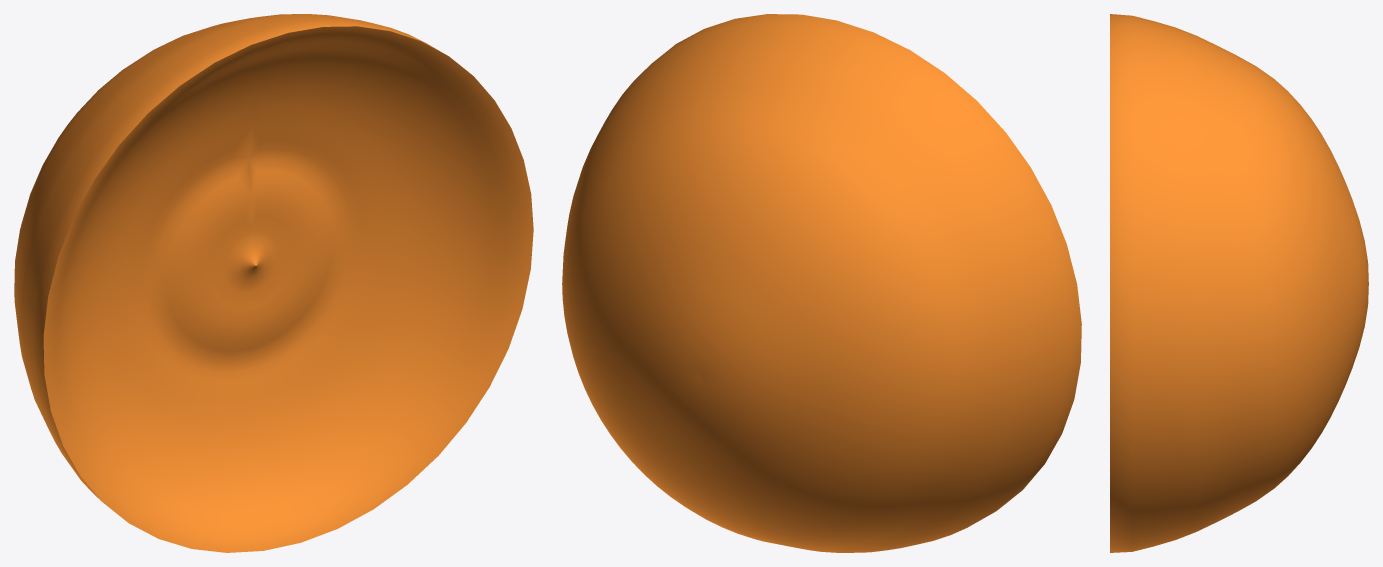
Rendered from ExpVolumenDeTrabajo.FBX.
3 renders of one model, left to right at view 1: azimuth 30°, elevation 25°; view 2: azimuth 150°, elevation 25°; view 3: azimuth 270°, elevation 25°, orthographic. The views are drawn at different scales.
Parts seen in each view (by area): view 1: Revolución1; view 2: Revolución1; view 3: Revolución1.
Boxes of the visible parts, x1,y1,x2,y2 form: Revolución1: (14, 14, 533, 552); Revolución1: (562, 14, 1081, 552); Revolución1: (1110, 14, 1368, 552).
Bounding box in the file's own units: 25.26 × 25.26 × 12.12.
